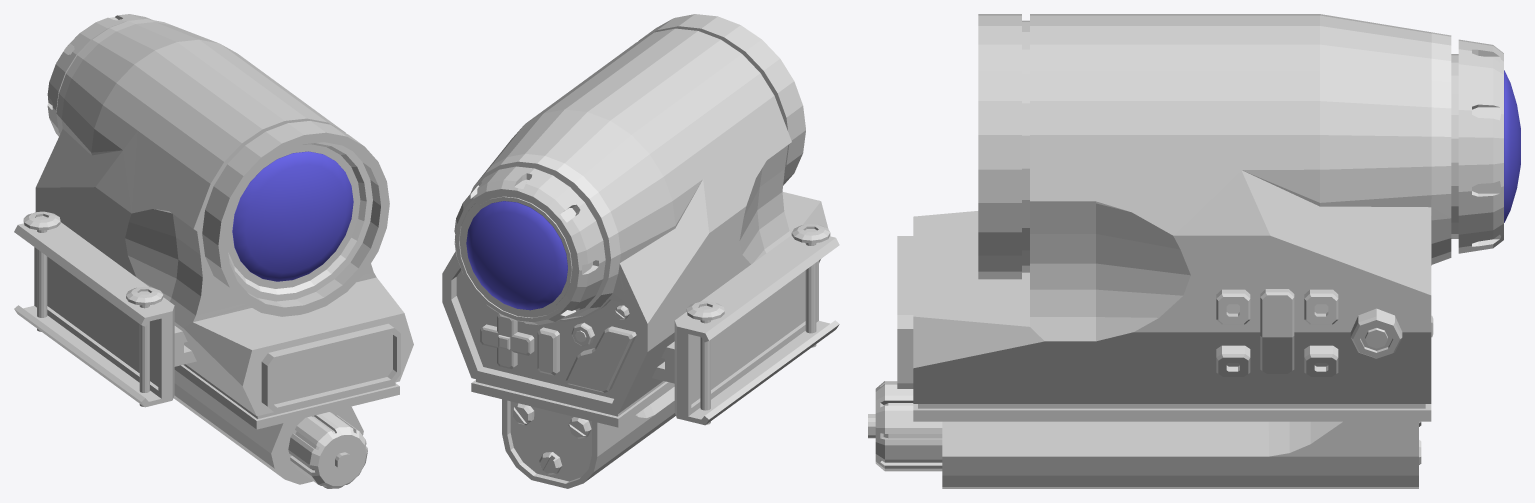
File: SM_LPAMG_LRAF9_Scope.fbx
3 views of the same model, side by side, from view 1: azimuth 30°, elevation 25°; view 2: azimuth 150°, elevation 25°; view 3: azimuth 270°, elevation 25° (orthographic). The views are drawn at different scales.
Visible parts, largest first — view 1: SM_LPAMG_LRAF9_Scope; view 2: SM_LPAMG_LRAF9_Scope; view 3: SM_LPAMG_LRAF9_Scope.
Boxes of the visible parts, box(x1,y1,x2,y2) form: SM_LPAMG_LRAF9_Scope: box(14, 14, 413, 488); SM_LPAMG_LRAF9_Scope: box(442, 14, 839, 488); SM_LPAMG_LRAF9_Scope: box(868, 14, 1520, 488).
Size of the model in its own units: 8.77 by 11.18 by 14.66.
